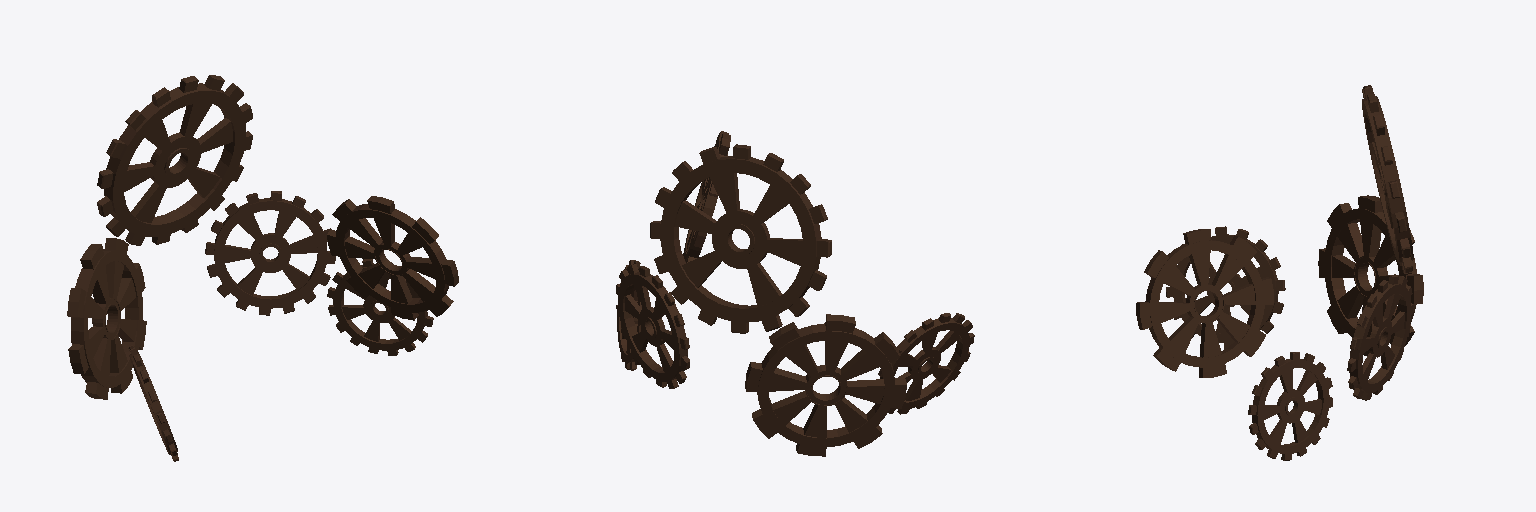
Rendered from Gears.obj.
3 views of the same model, side by side, from view 1: azimuth 30°, elevation 25°; view 2: azimuth 150°, elevation 25°; view 3: azimuth 270°, elevation 25° (orthographic).
Parts seen in each view (by area): view 1: Circle.007, Circle.008, Circle.004, Circle.001, Circle.006, Circle.005; view 2: Circle.007, Circle.004, Circle.001, Circle.005, Circle.008, Circle.006; view 3: Circle.008, Circle.004, Circle.006, Circle.001, Circle.007, Circle.005.
Part boxes in pixels (left/top/right/bottom): Circle.007: left=97, top=75, right=252, bottom=245; Circle.008: left=327, top=196, right=458, bottom=320; Circle.004: left=67, top=238, right=146, bottom=399; Circle.001: left=205, top=191, right=335, bottom=315; Circle.006: left=327, top=259, right=433, bottom=355; Circle.005: left=128, top=345, right=178, bottom=461; Circle.007: left=650, top=144, right=831, bottom=333; Circle.004: left=745, top=314, right=906, bottom=456; Circle.001: left=616, top=264, right=689, bottom=388; Circle.005: left=878, top=313, right=974, bottom=414; Circle.008: left=683, top=131, right=730, bottom=262; Circle.006: left=617, top=260, right=642, bottom=370; Circle.008: left=1136, top=229, right=1273, bottom=377; Circle.004: left=1318, top=195, right=1423, bottom=355; Circle.006: left=1248, top=352, right=1332, bottom=460; Circle.001: left=1347, top=274, right=1412, bottom=400; Circle.007: left=1362, top=85, right=1413, bottom=274; Circle.005: left=1166, top=226, right=1285, bottom=349.
Size of the model in its own units: 51.19 by 44.76 by 39.03.